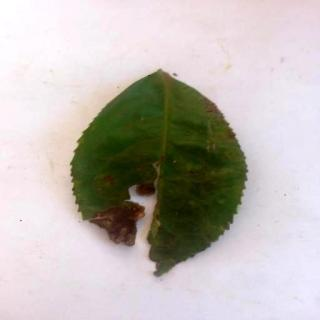Brown Blight: (69, 68, 249, 277)
